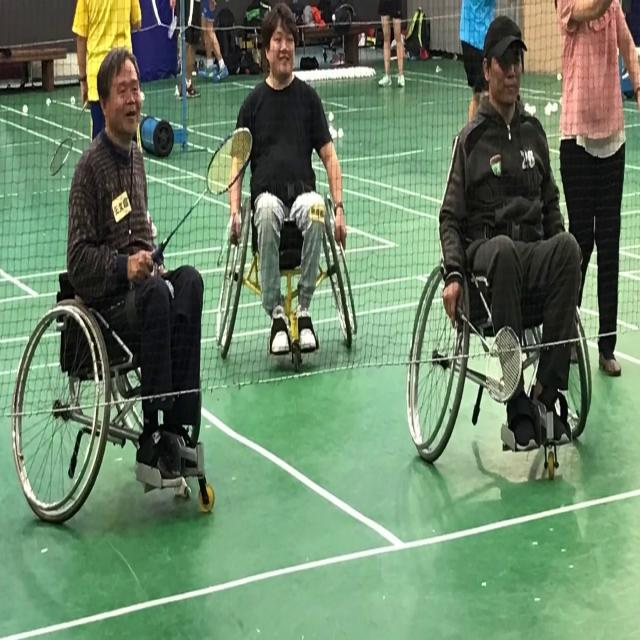wheelchairs: (4, 237, 219, 562), (401, 223, 611, 507), (199, 159, 371, 381)
